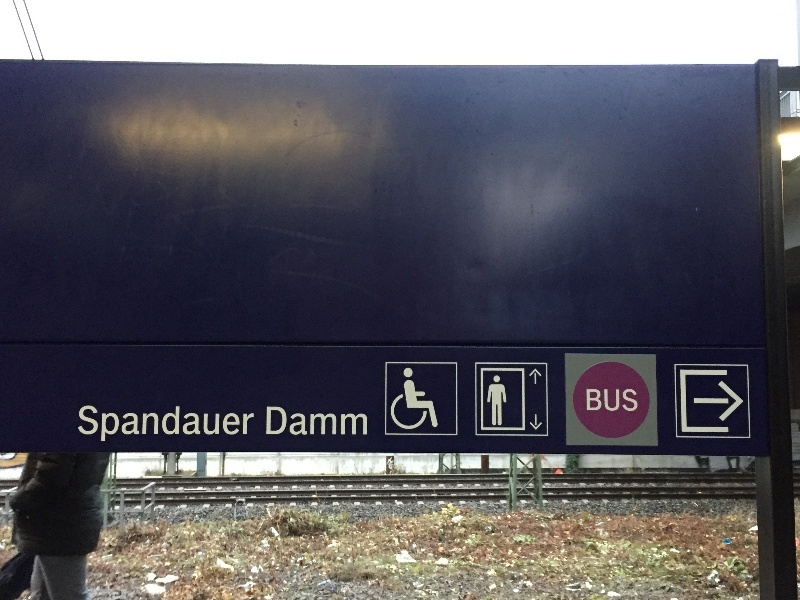text: (81, 406, 96, 442), (97, 406, 112, 442), (113, 406, 128, 442), (129, 406, 144, 442), (145, 406, 160, 442), (161, 406, 176, 442), (177, 406, 192, 442), (193, 406, 208, 442), (209, 406, 224, 442), (225, 406, 240, 442), (241, 406, 255, 442), (273, 407, 288, 436), (289, 407, 304, 436), (305, 407, 320, 436), (321, 407, 336, 436), (337, 407, 352, 436), (353, 407, 368, 436), (593, 389, 608, 412), (609, 389, 624, 412), (625, 389, 638, 412), (267, 407, 272, 436), (587, 389, 592, 412)
